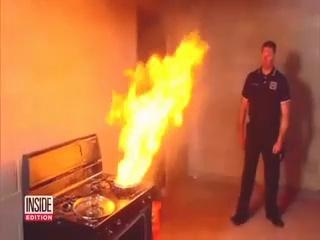Fire: (110, 9, 221, 189)
